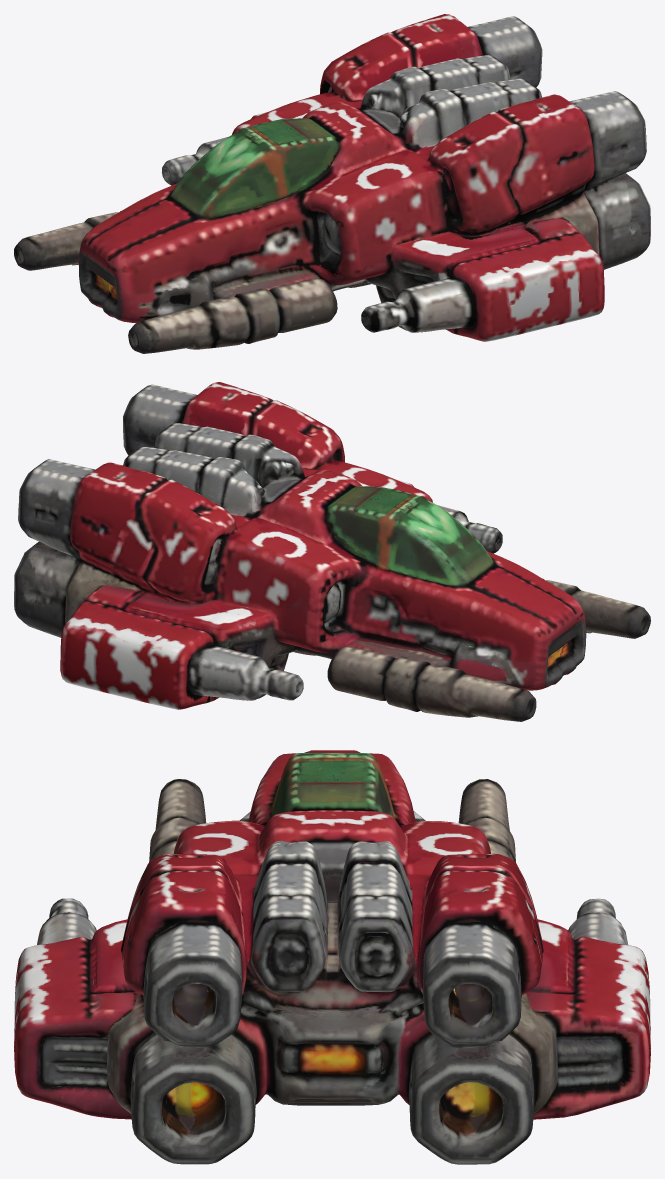
File: Marauder.glb
3 renders of one model, top to bottom at view 1: azimuth 30°, elevation 25°; view 2: azimuth 150°, elevation 25°; view 3: azimuth 270°, elevation 25°, orthographic. The views are drawn at different scales.
Visible parts, largest first — view 1: Mesh_0.001; view 2: Mesh_0.001; view 3: Mesh_0.001.
Boxes of the visible parts, box(x1,y1,x2,y2) form: Mesh_0.001: box(14, 14, 650, 353); Mesh_0.001: box(14, 382, 650, 721); Mesh_0.001: box(14, 750, 650, 1164).
Bounding box in the file's own units: 1.91 × 0.6783 × 1.58.
1 material, 1 textured.
